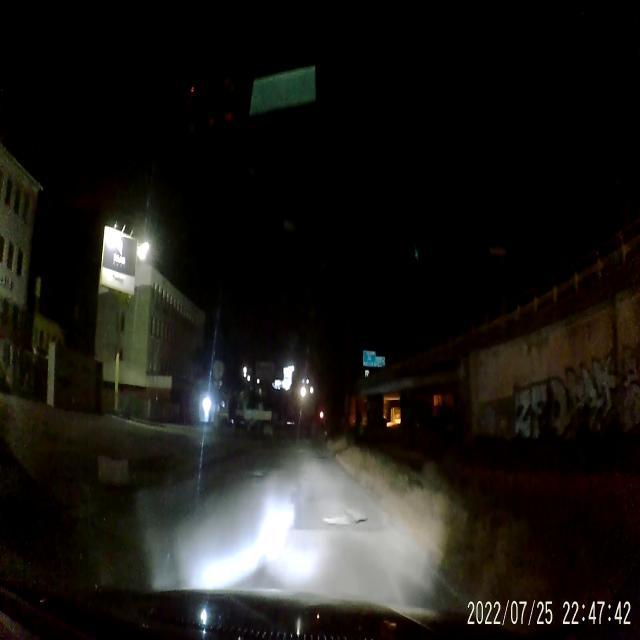Pothole: (321, 503, 371, 528), (248, 468, 266, 482)
